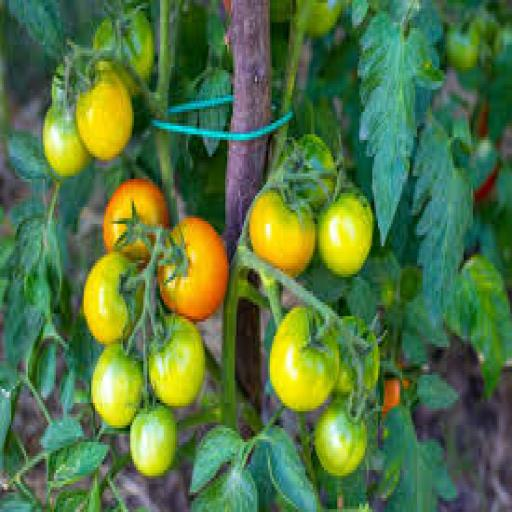tomato: (159, 216, 229, 321), (270, 308, 338, 411), (250, 191, 316, 276), (77, 70, 134, 159), (149, 317, 204, 408), (103, 180, 169, 251), (319, 191, 374, 276), (84, 252, 132, 344), (92, 345, 143, 428), (315, 401, 366, 475), (43, 104, 91, 179), (131, 406, 176, 478), (295, 135, 336, 212), (120, 9, 154, 81), (447, 28, 478, 72), (306, 0, 342, 36), (475, 163, 500, 201), (364, 333, 379, 391), (364, 336, 379, 391), (382, 378, 400, 419), (336, 359, 355, 394), (492, 26, 511, 55), (53, 65, 65, 106), (270, 0, 292, 22), (380, 280, 396, 310), (477, 101, 489, 139), (224, 0, 230, 16)
